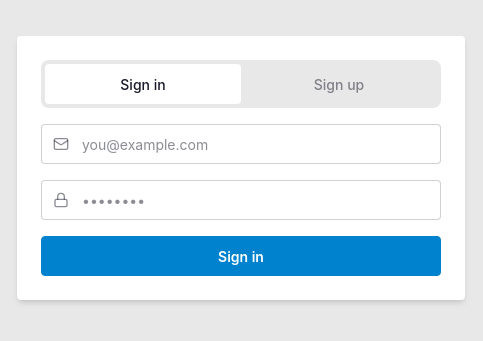
Scenario: AuthPage — sign in tab › blocks submit with empty fields
The width and height of the screenshot is (483, 341).
Click the button "Sign in". click: (241, 256)
box: x1=41 y1=236 x2=441 y2=276
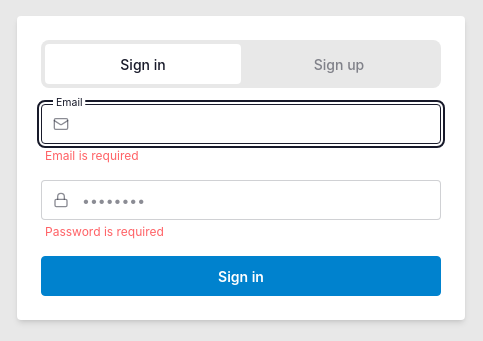
Expected: the text "Email is required" is shown, x1=45 y1=148 x2=139 y2=163
Expected: the text "Password is required" is shown, x1=45 y1=224 x2=164 y2=239
